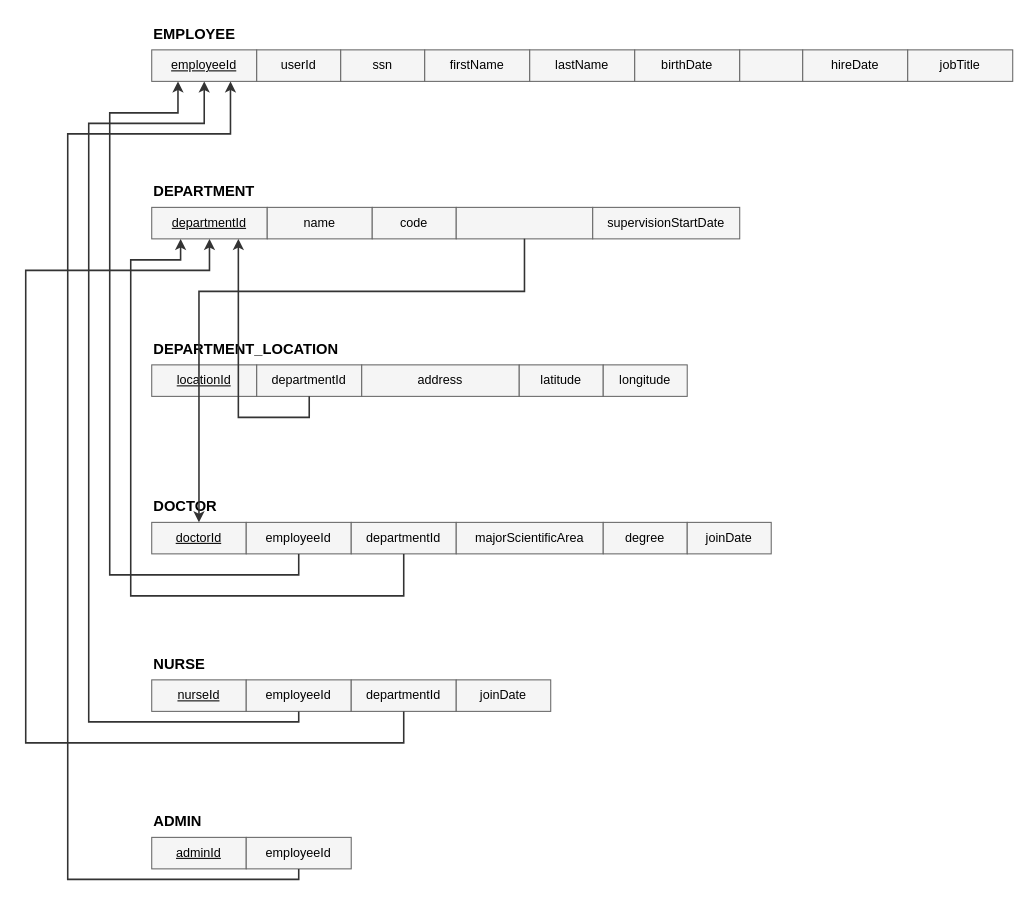
This 1032x906 diagram has some shape labels left out. The box of each missing label's shape, as (x1, y1, x2, y2) in pixels:
chairmanDoctorId: (455, 206, 593, 239)
sex: (739, 49, 803, 81)
